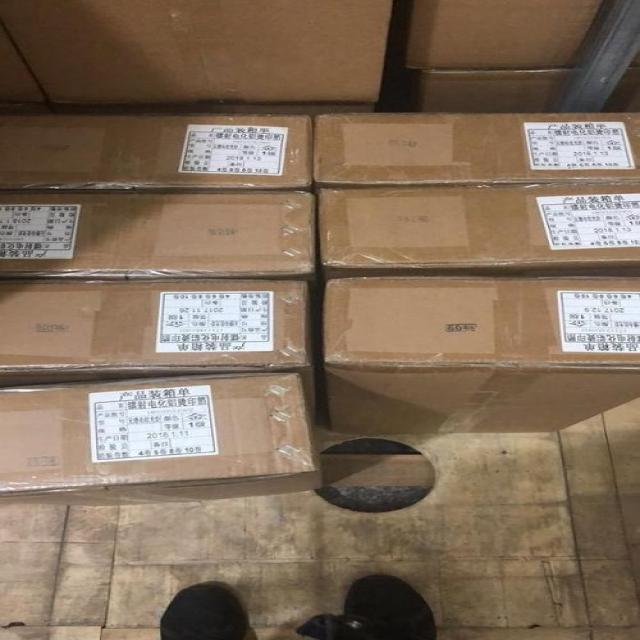box: (321, 273, 640, 434), (0, 277, 315, 426), (0, 371, 323, 508), (1, 0, 392, 102), (315, 180, 640, 278), (0, 188, 316, 278), (311, 111, 640, 185), (0, 113, 312, 191), (401, 2, 599, 68), (416, 68, 570, 112), (0, 100, 376, 115), (0, 22, 49, 102)
